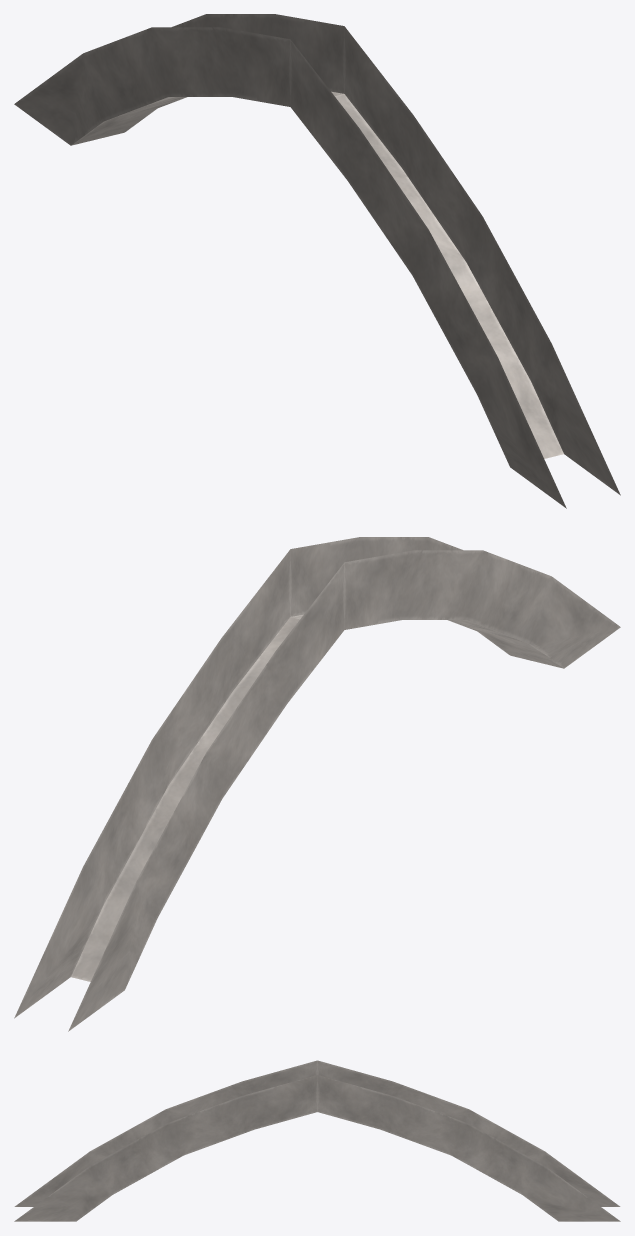
File: Ceiling_Vaulted_Hall_Rib.fbx
3 views of the same model, one above another, from view 1: azimuth 30°, elevation 25°; view 2: azimuth 150°, elevation 25°; view 3: azimuth 270°, elevation 25° (orthographic). The views are drawn at different scales.
Visible parts, largest first — view 1: Ceiling_Vaulted_Hall_Rib; view 2: Ceiling_Vaulted_Hall_Rib; view 3: Ceiling_Vaulted_Hall_Rib.
Part boxes in pixels (<box>): Ceiling_Vaulted_Hall_Rib: <box>14,14,620,508</box>; Ceiling_Vaulted_Hall_Rib: <box>14,537,620,1031</box>; Ceiling_Vaulted_Hall_Rib: <box>14,1060,620,1221</box>.
Bounding box in the file's own units: 0.3385 × 6 × 1.6.
